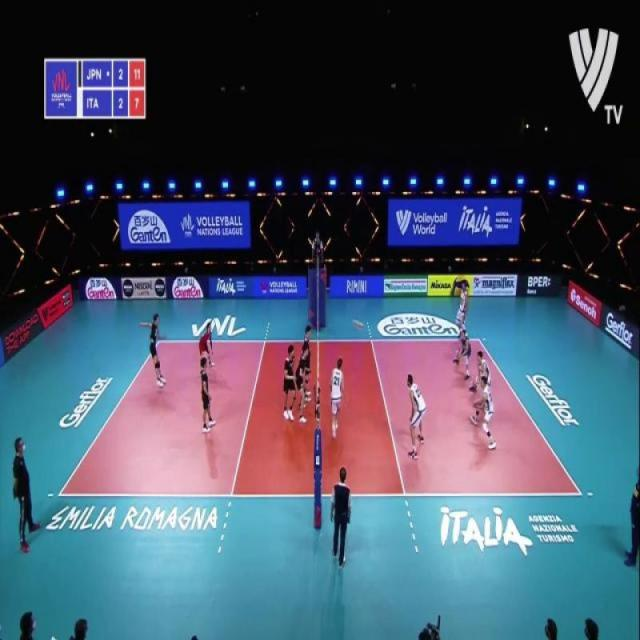volleyball: (451, 276, 470, 296), (352, 315, 365, 335)
